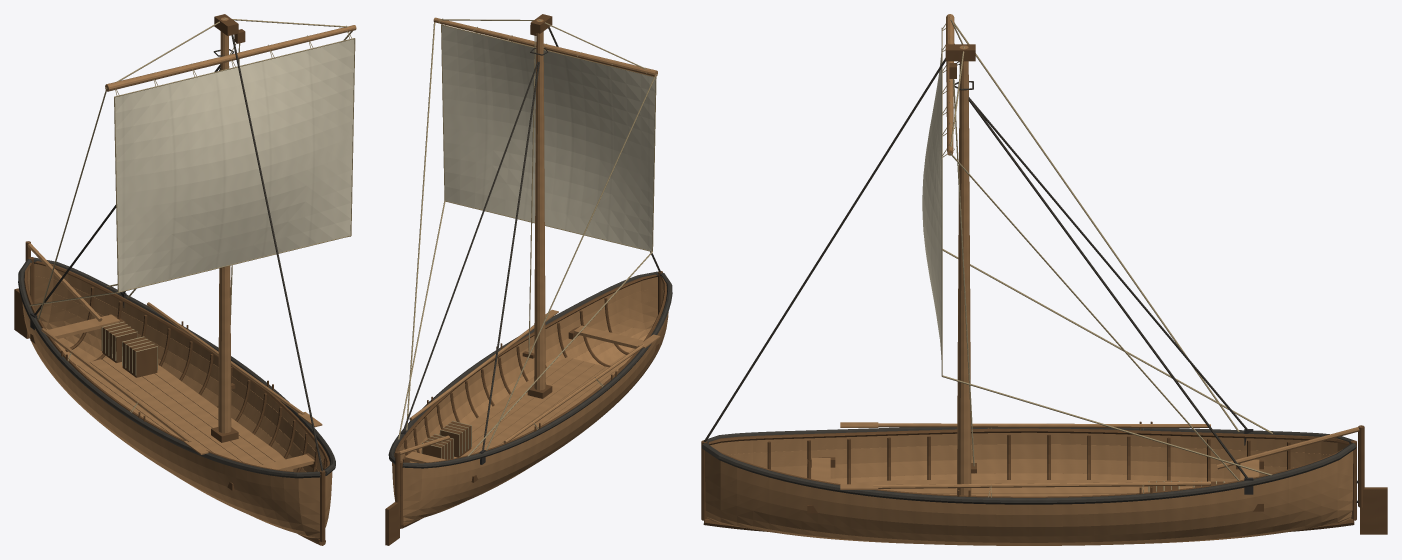
The model's file is ship.glb.
3 renders of one model, left to right at view 1: azimuth 30°, elevation 25°; view 2: azimuth 150°, elevation 25°; view 3: azimuth 270°, elevation 25°, orthographic. The views are drawn at different scales.
Visible parts, largest first — view 1: square_sail, strake_port_07, strake_starboard_07, strake_starboard_08, strake_port_06, gunwale_1_001, strake_port_08, strake_starboard_06, mast, yard, strake_port_05, sole_board_03 (+22 smaller); view 2: square_sail, mast, strake_port_07, strake_starboard_07, strake_port_06, strake_starboard_08, strake_port_08, gunwale_1_001, strake_starboard_06, strake_port_05, yard, sole_board_03 (+23 smaller); view 3: strake_port_07, strake_port_08, strake_starboard_07, strake_port_06, strake_starboard_08, strake_starboard_06, strake_port_05, mast, gunwale_1, square_sail, strake_port_04, inwale_1_001 (+17 smaller).
Boxes of the visible parts, <box> form: square_sail: <box>115,39,354,291</box>; strake_port_07: <box>34,275,331,500</box>; strake_starboard_07: <box>22,277,319,502</box>; strake_starboard_08: <box>23,267,319,489</box>; strake_port_06: <box>34,289,331,511</box>; gunwale_1_001: <box>18,259,320,478</box>; strake_port_08: <box>34,263,332,486</box>; strake_starboard_06: <box>23,290,319,514</box>; mast: <box>218,17,231,433</box>; yard: <box>105,25,356,91</box>; strake_port_05: <box>34,301,329,521</box>; sole_board_03: <box>89,359,241,461</box>; square_sail: <box>442,25,655,250</box>; mast: <box>534,19,545,390</box>; strake_port_07: <box>392,287,657,485</box>; strake_starboard_07: <box>403,289,668,490</box>; strake_port_06: <box>393,300,657,495</box>; strake_starboard_08: <box>403,280,667,478</box>; strake_port_08: <box>392,277,657,473</box>; gunwale_1_001: <box>402,272,672,468</box>; strake_starboard_06: <box>403,301,667,500</box>; strake_port_05: <box>394,310,657,500</box>; yard: <box>433,17,657,76</box>; sole_board_03: <box>473,364,605,453</box>; strake_port_07: <box>705,462,1353,526</box>; strake_port_08: <box>705,451,1353,514</box>; strake_starboard_07: <box>728,444,1329,467</box>; strake_port_06: <box>705,478,1352,536</box>; strake_starboard_08: <box>710,432,1347,454</box>; strake_starboard_06: <box>764,459,1293,479</box>; strake_port_05: <box>705,491,1352,542</box>; mast: <box>957,45,971,495</box>; gunwale_1: <box>702,443,1356,504</box>; square_sail: <box>922,48,941,359</box>; strake_port_04: <box>705,502,1352,545</box>; inwale_1_001: <box>708,428,1349,445</box>.
Bounding box in the file's own units: 3.22 × 5.52 × 6.87.
Materials: 7 (7 with a texture image).
